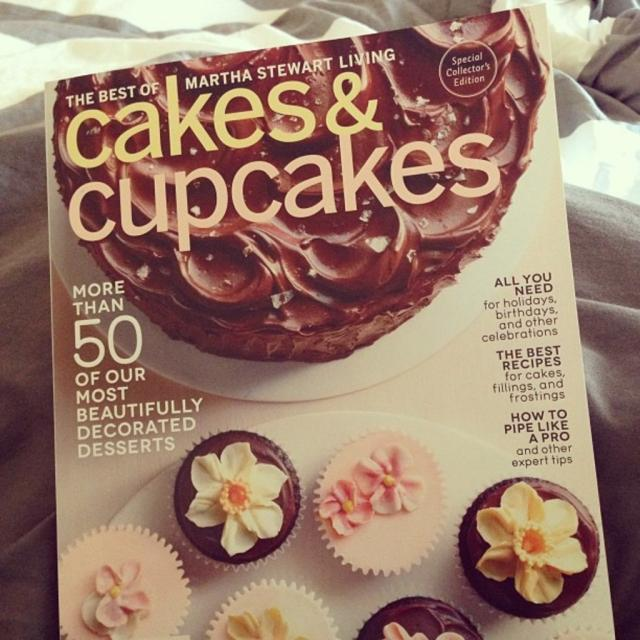Muffin: (303, 427, 452, 581), (448, 480, 598, 624), (178, 433, 307, 583), (49, 520, 195, 640), (203, 579, 335, 639), (353, 593, 488, 639)
